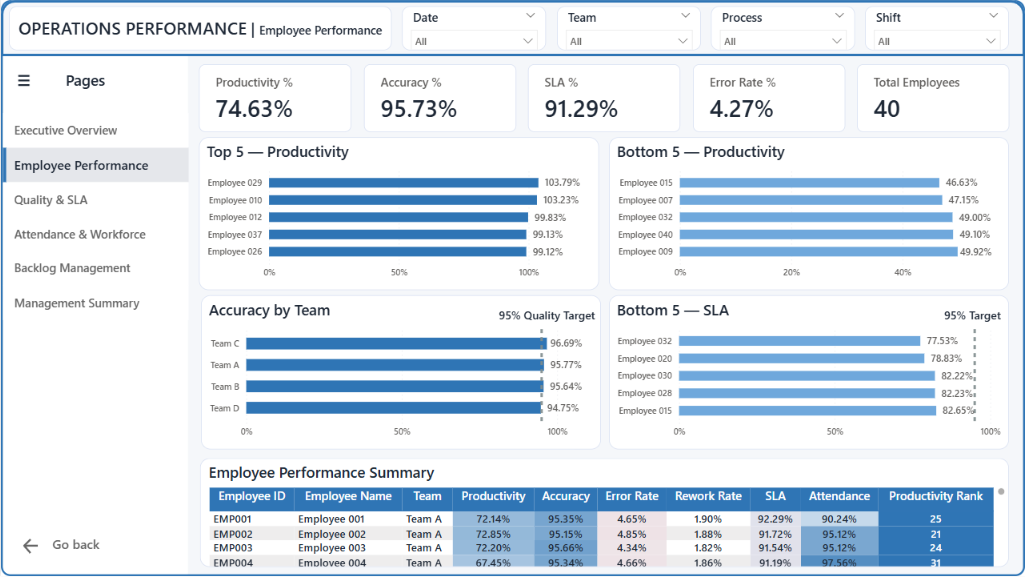

Layout of this report page (visuals, bound fields, positions):
{"tool":"powerbi","page":{"name":"Employee Performance","canvas":[1280,720],"ordinal":1},"visuals":[{"type":"shape","box":[0,0,1280,720],"z":0},{"type":"shape","box":[0,0,1280,70],"z":1000},{"type":"textbox","box":[10,7.5,478.8,55],"z":2000},{"type":"cardVisual","fields":{"Data":["Count(dim_employee.Employee ID)"]},"box":[1070,80,190,85],"z":3000},{"type":"shape","box":[2.5,70,231.2,647.5],"z":4000},{"type":"cardVisual","fields":{"Data":["Measure.SLA %"]},"box":[658.8,80,190,85],"z":5000},{"type":"cardVisual","fields":{"Data":["Measure.Accuracy %"]},"box":[453.1,80,190,85],"z":6000},{"type":"cardVisual","fields":{"Data":["Measure.Productivity %"]},"box":[247.5,80,190,85],"z":7000},{"type":"cardVisual","fields":{"Data":["Measure.Error Rate %"]},"box":[864.4,80,190,85],"z":8000},{"type":"slicer","fields":{"Values":["DateTable.Date"]},"box":[501.6,7.5,180,55],"z":9000},{"type":"slicer","fields":{"Values":["dim_team.Team"]},"box":[694.4,7.5,180,55],"z":10000},{"type":"slicer","fields":{"Values":["dim_process.Process"]},"box":[887.2,7.5,180,55],"z":11000},{"type":"slicer","fields":{"Values":["dim_shift.Shift"]},"box":[1080,7.5,180,55],"z":12000},{"type":"pageNavigator","box":[2,141.2,232.5,261.2],"z":13000},{"type":"actionButton","box":[24,669,37.5,27.5],"z":14000},{"type":"textbox","box":[51.2,663.8,85,41.2],"z":15000},{"type":"textbox","box":[10,82,167.5,41.2],"z":16000},{"type":"clusteredBarChart","title":"Top 5 — Productivity","fields":{"Category":["dim_employee.Employee Name"],"Y":["Measure.Productivity %"]},"box":[247.5,171,500,191],"z":17000},{"type":"clusteredBarChart","title":"Accuracy by Team","fields":{"Category":["dim_team.Team"],"Y":["Measure.Accuracy %"]},"box":[250,368.8,500,192.5],"z":18000},{"type":"clusteredBarChart","title":"Bottom 5 — Productivity","fields":{"Category":["dim_employee.Employee Name"],"Y":["Measure.Productivity %"]},"box":[760,171,500,191],"z":19000},{"type":"clusteredBarChart","title":"Bottom 5 — SLA","fields":{"Category":["dim_employee.Employee Name"],"Y":["Measure.SLA %"]},"box":[760,368.8,500,192.5],"z":20000},{"type":"textbox","box":[1168.8,378.8,91.2,30],"z":21000},{"type":"tableEx","title":"Employee Performance Summary","fields":{"Values":["dim_employee.Employee ID","dim_employee.Employee Name","dim_employee.Team","Measure.Productivity %","Measure.Accuracy %","Measure.Error Rate %","Measure.Rework Rate %","Measure.SLA %","Measure.Attendance %","dim_employee.Productivity Rank"]},"box":[248.8,572.5,1011.2,136.2],"z":22000},{"type":"textbox","box":[615,378.8,135,30],"z":23000}]}

Visuals, with their boxes on the page's 1280x720 design canvas (x1, y1, x2, y2). These are canvas units, not pixel positions in the 1025x577 screenshot, which may show the page scaled, cropped or inside an application window:
shape: 0, 0, 1280, 720
shape: 0, 0, 1280, 70
textbox: 10, 8, 489, 62
cardVisual - Count(dim_employee.Employee ID): 1070, 80, 1260, 165
shape: 2, 70, 234, 718
cardVisual - Measure.SLA %: 659, 80, 849, 165
cardVisual - Measure.Accuracy %: 453, 80, 643, 165
cardVisual - Measure.Productivity %: 248, 80, 438, 165
cardVisual - Measure.Error Rate %: 864, 80, 1054, 165
slicer - DateTable.Date: 502, 8, 682, 62
slicer - dim_team.Team: 694, 8, 874, 62
slicer - dim_process.Process: 887, 8, 1067, 62
slicer - dim_shift.Shift: 1080, 8, 1260, 62
pageNavigator: 2, 141, 234, 402
actionButton: 24, 669, 62, 696
textbox: 51, 664, 136, 705
textbox: 10, 82, 178, 123
"Top 5 — Productivity" clusteredBarChart: 248, 171, 748, 362
"Accuracy by Team" clusteredBarChart: 250, 369, 750, 561
"Bottom 5 — Productivity" clusteredBarChart: 760, 171, 1260, 362
"Bottom 5 — SLA" clusteredBarChart: 760, 369, 1260, 561
textbox: 1169, 379, 1260, 409
"Employee Performance Summary" tableEx: 249, 572, 1260, 709
textbox: 615, 379, 750, 409
